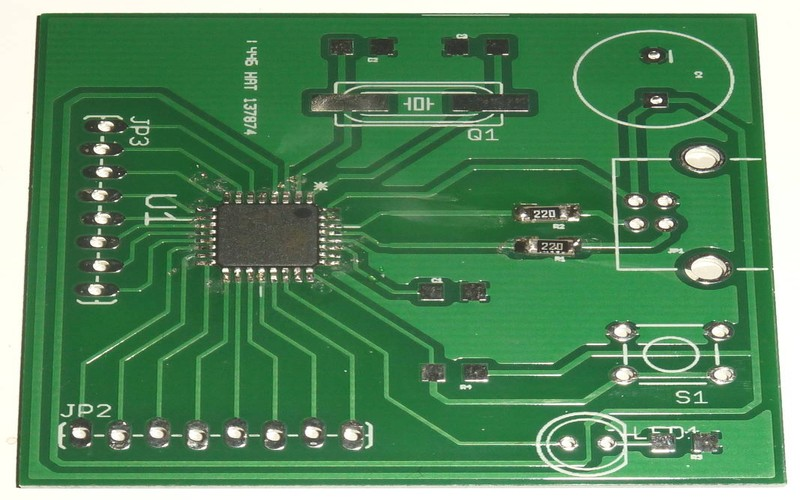Cirtuit-Board: (14, 11, 792, 491)
